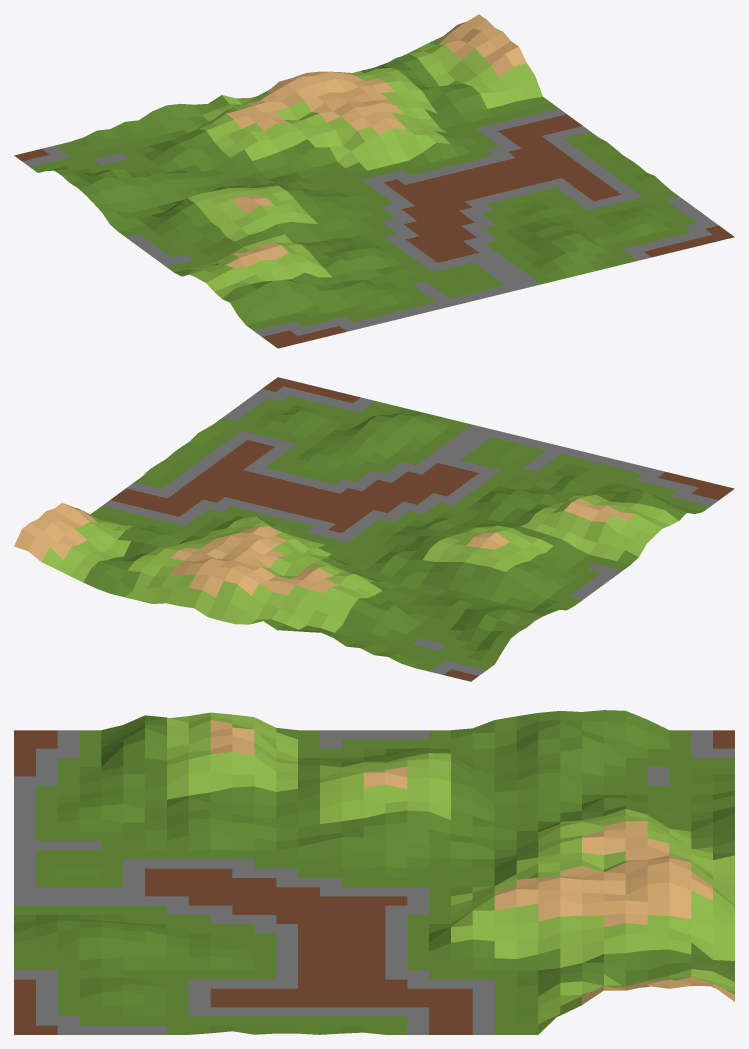
The model's file is ground.fbx.
3 views of the same model, one above another, from view 1: azimuth 30°, elevation 25°; view 2: azimuth 150°, elevation 25°; view 3: azimuth 270°, elevation 25° (orthographic). The views are drawn at different scales.
Visible parts, largest first — view 1: Plane; view 2: Plane; view 3: Plane.
Boxes of the visible parts, x1,y1,x2,y2 form: Plane: [14, 14, 734, 348]; Plane: [14, 377, 734, 681]; Plane: [14, 710, 734, 1034].
Bounding box in the file's own units: 11202 × 840 × 11202.
